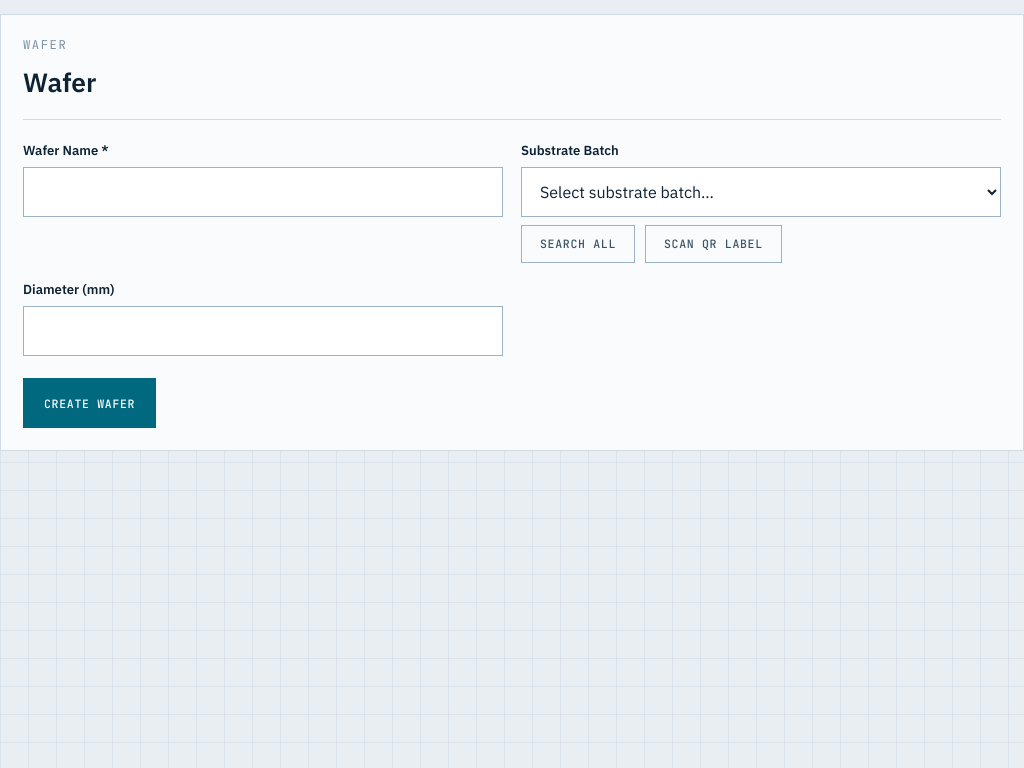
Test: Semantic where filters on type-ahead picks › runs the rule's autofill from the fetched record on a search pick
Expected: the dropdown labelled "Substrate Batch" is shown, [521, 167, 1001, 217]
Click the button "Search all" at (578, 244), box [521, 225, 635, 263]
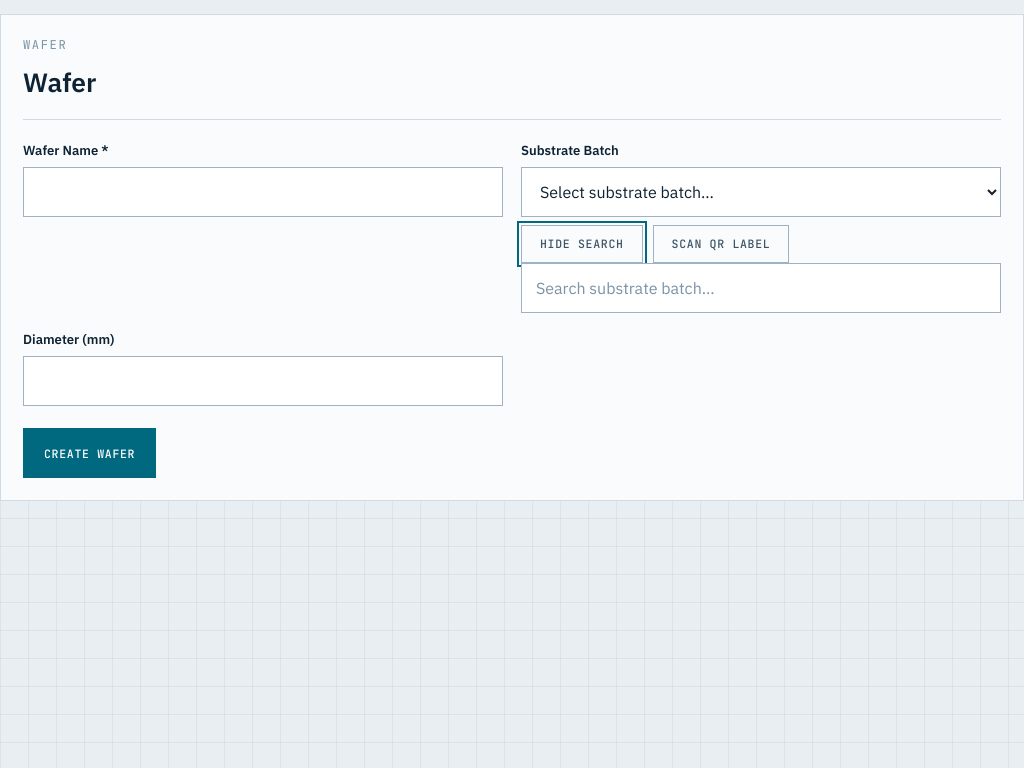
Type "UniversityWafer" into the search field labelled "Search substrate batch" at (761, 288), box [521, 263, 1001, 313]
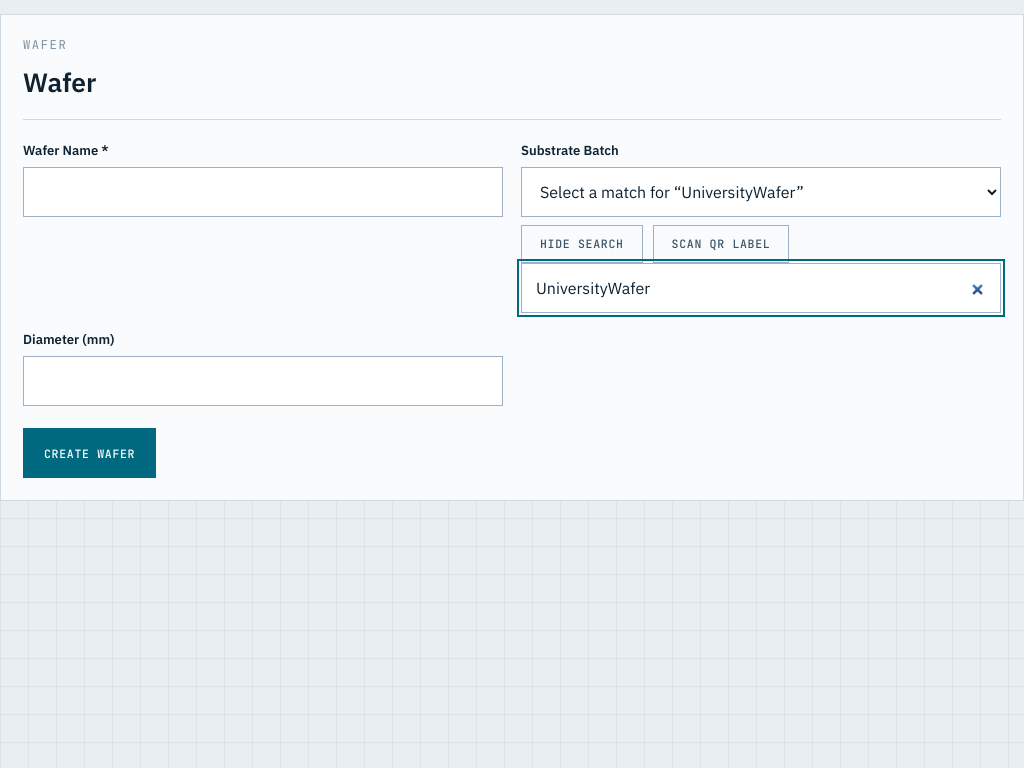
Select "UniversityWafer lot A3" in the dropdown labelled "Substrate Batch" at (761, 192), box [521, 167, 1001, 217]
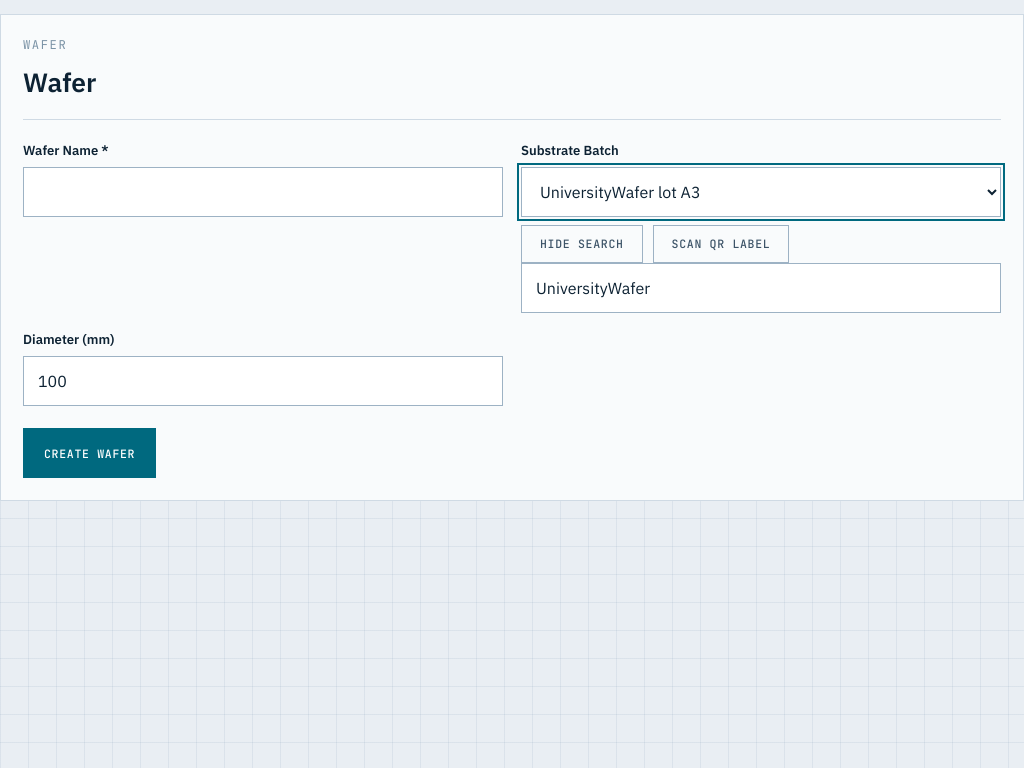
Expected: the number field labelled "Diameter (mm)" holds "100", [23, 356, 503, 406]
